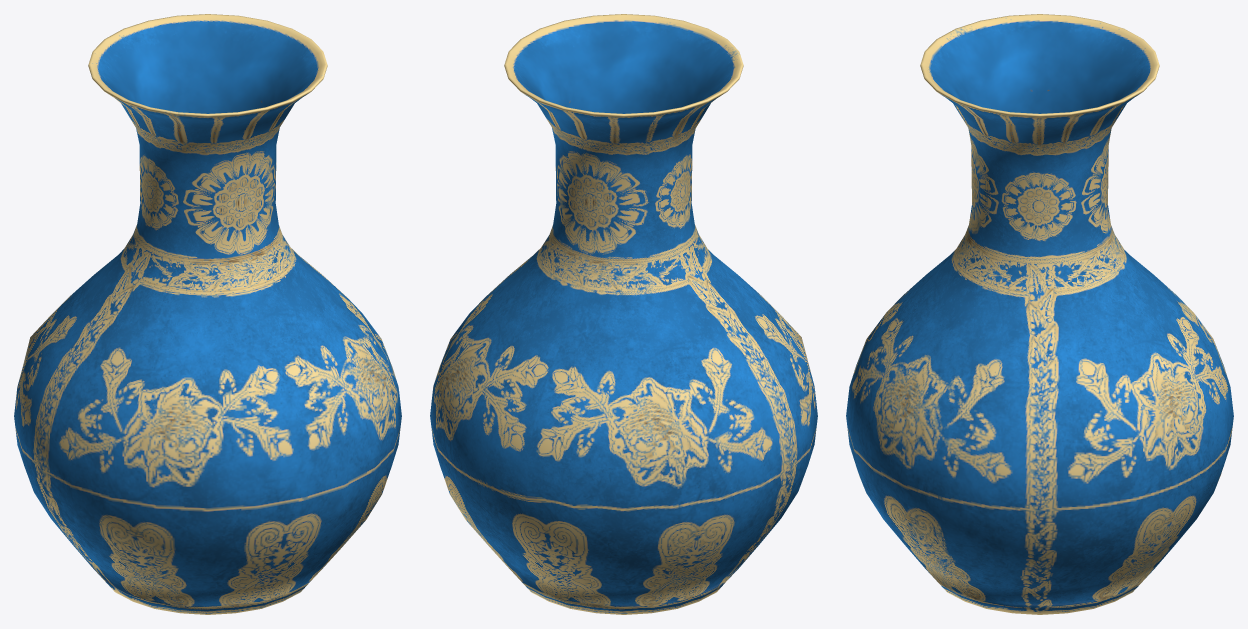
The model's file is Vase_low.fbx.
3 views of the same model, side by side, from view 1: azimuth 30°, elevation 25°; view 2: azimuth 150°, elevation 25°; view 3: azimuth 270°, elevation 25° (orthographic).
Parts seen in each view (by area): view 1: Vase_low; view 2: Vase_low; view 3: Vase_low.
Part boxes in pixels (x1,y1,x2,y2): Vase_low: (14, 14, 401, 614); Vase_low: (430, 14, 817, 614); Vase_low: (846, 14, 1233, 614).
Bounding box in the file's own units: 63.45 × 92.34 × 63.28.
